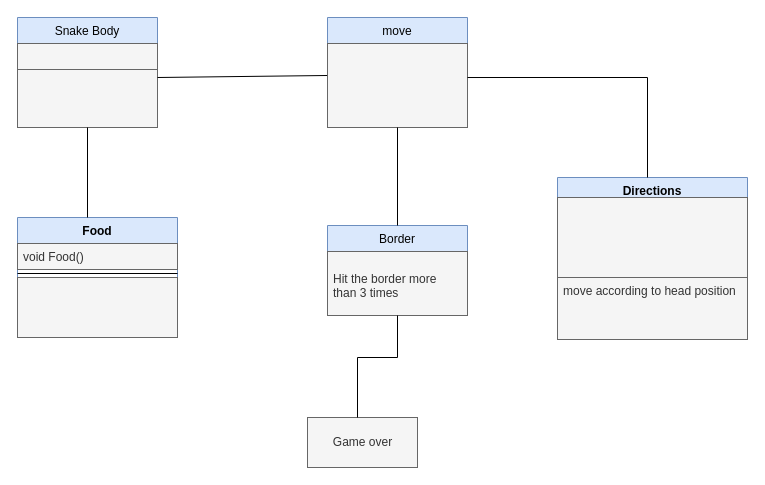
The diagram is 765 pixels wide and 485 high, and some of its shapes have lost their labels. The centre of each missing label's shape, as x and y in pixels:
"(//)random numbers (//) change its position" goes at pixel 97 307.
"Head position" goes at pixel 87 56.
"Right() Left() Up() Down()" goes at pixel 652 237.
"Tail position" goes at pixel 87 98.
"void Move()" goes at pixel 397 85.
